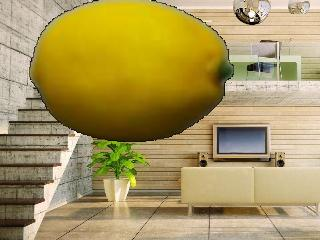lemon: (30, 0, 234, 141)
